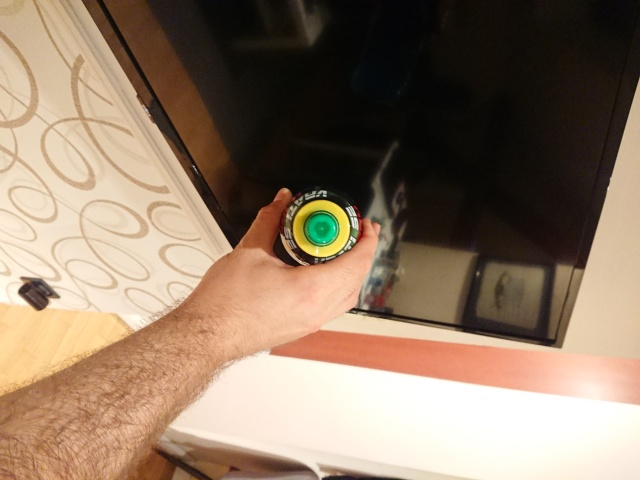Vindi Iso Sport Forest Strawberries 500mL: (277, 184, 365, 271)
